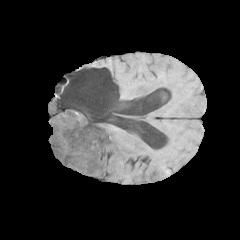glioma: (50, 71, 138, 176)
